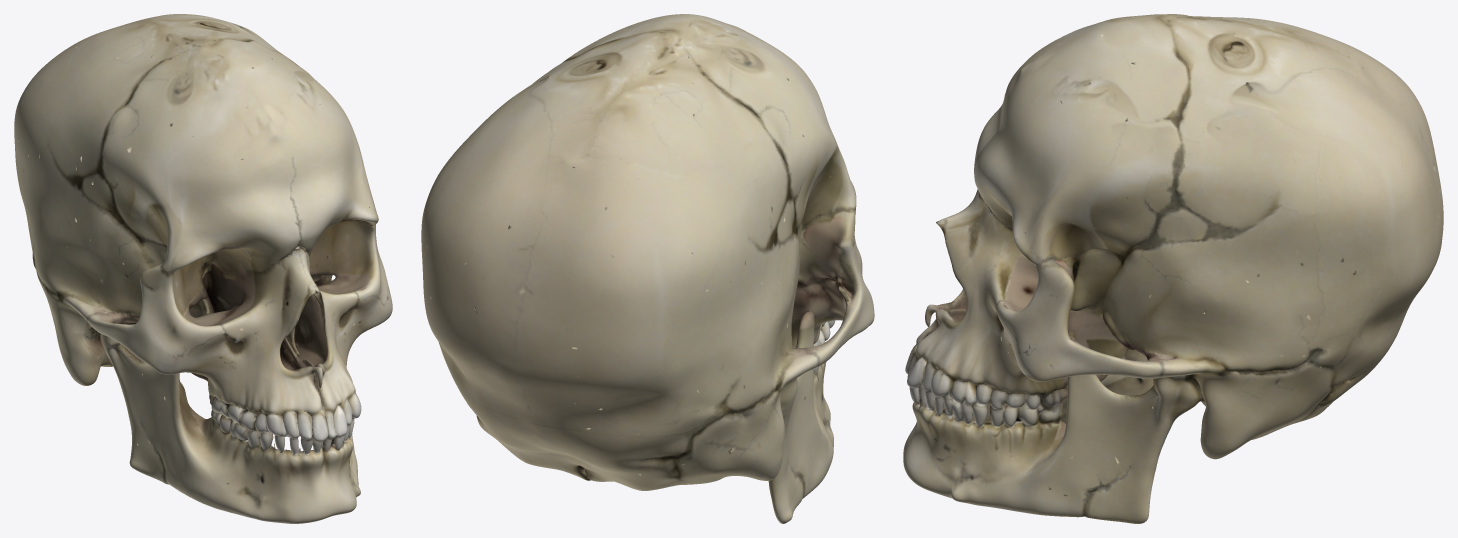
Rendered from skull_closed.glb.
3 renders of one model, left to right at view 1: azimuth 30°, elevation 25°; view 2: azimuth 150°, elevation 25°; view 3: azimuth 270°, elevation 25°, orthographic. The views are drawn at different scales.
Bounding box in the file's own units: 1.27 × 1.86 × 2.
1 material, 1 textured.
